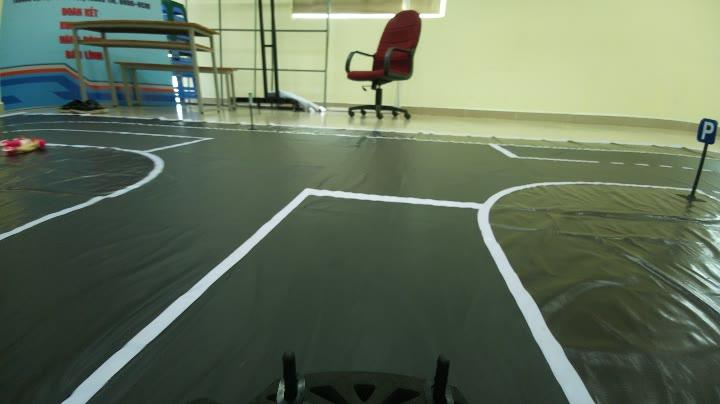parking: (696, 115, 719, 144)
